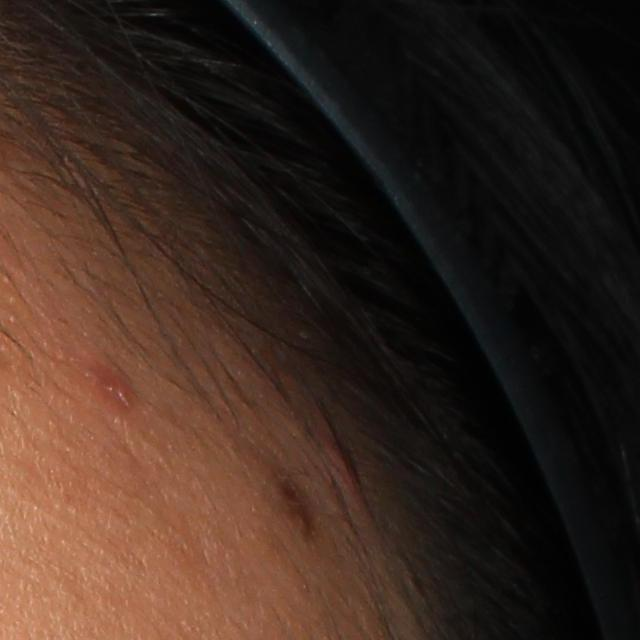papule: (80, 362, 139, 411), (328, 439, 372, 494)
